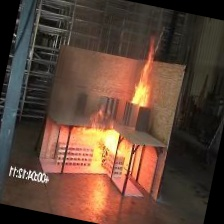fire: (104, 32, 178, 120), (71, 115, 134, 176)
